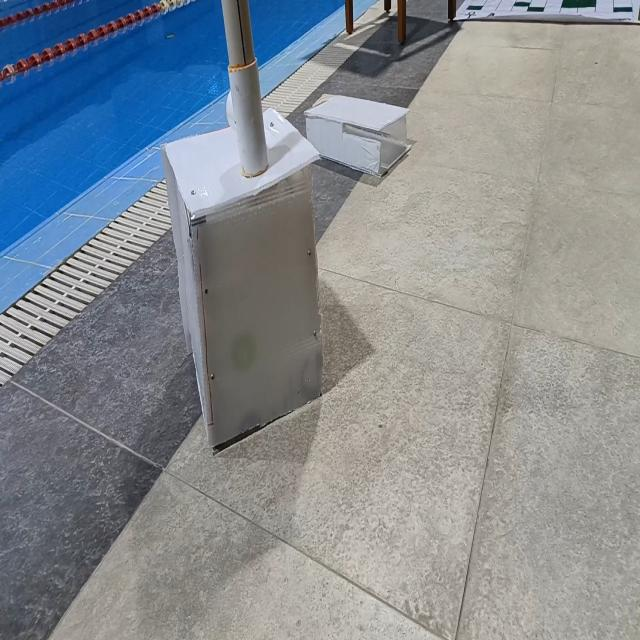Cube: (160, 104, 325, 451)
Cuboid: (304, 92, 411, 178)
